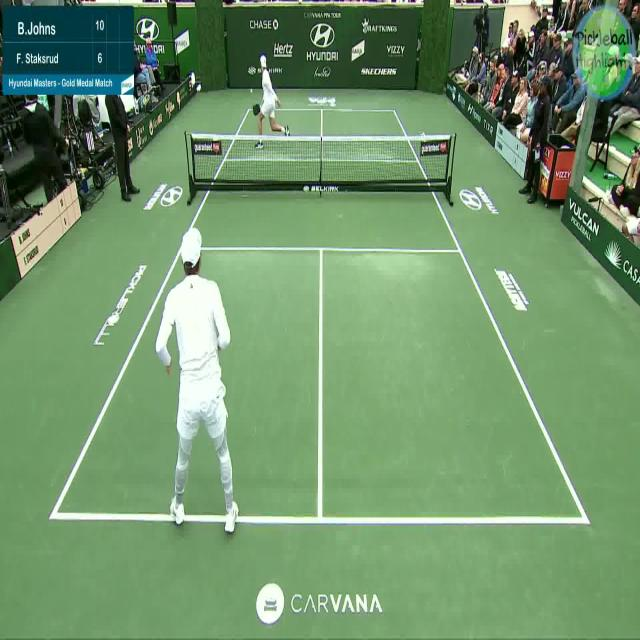ball: (249, 85, 254, 96)
